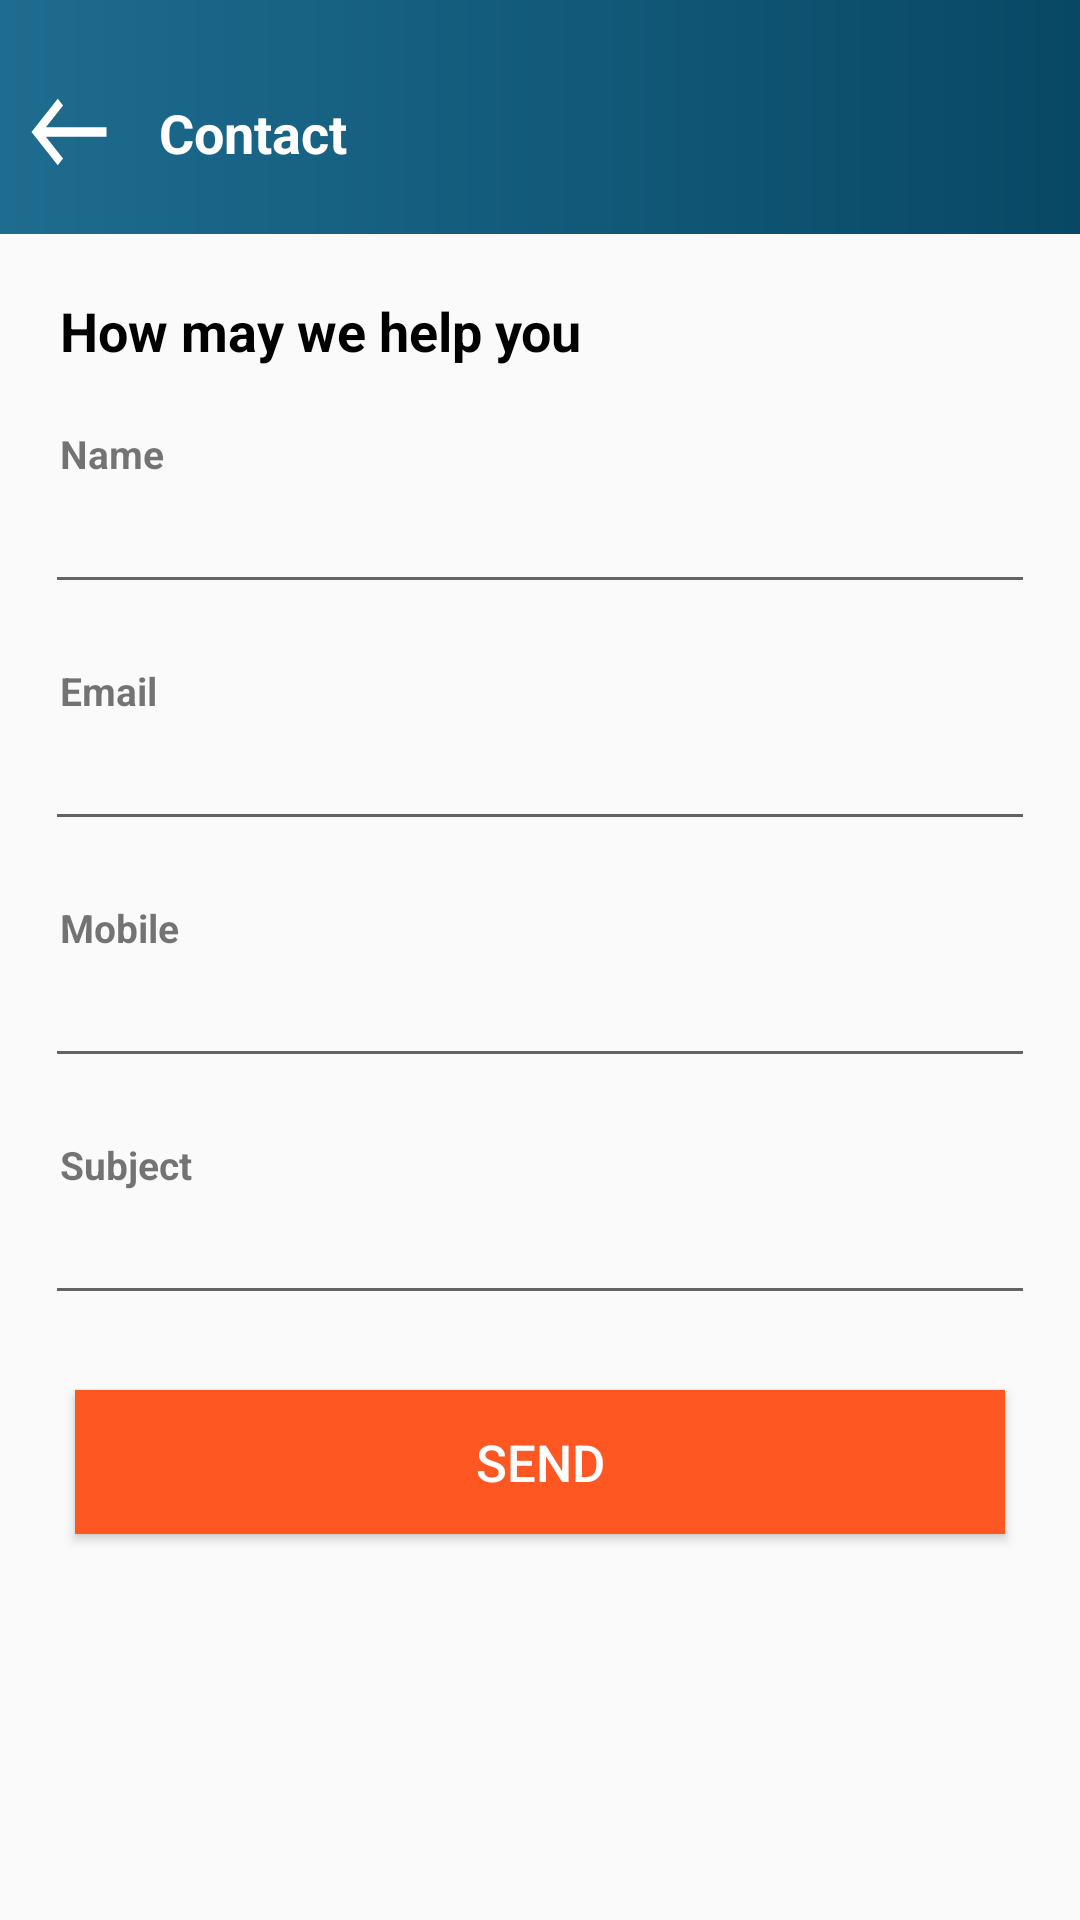

Icon bounding boxes for this 1080px x 1920px phone screenshot, format (x1, y1, x2, y2):
west: (31, 99, 107, 165)
